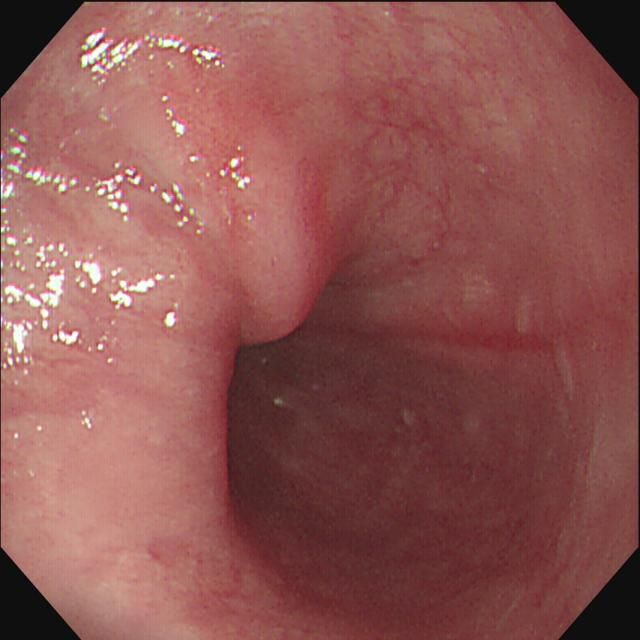A: (150, 536, 261, 638), (376, 180, 451, 289), (357, 78, 458, 156), (299, 161, 339, 269)
J: (273, 397, 294, 410)
U: (95, 161, 207, 238), (81, 29, 226, 87), (2, 124, 78, 199), (2, 237, 69, 309), (2, 309, 80, 369), (109, 268, 179, 312), (220, 157, 254, 191), (75, 259, 103, 296), (166, 109, 187, 137), (165, 311, 180, 329)
